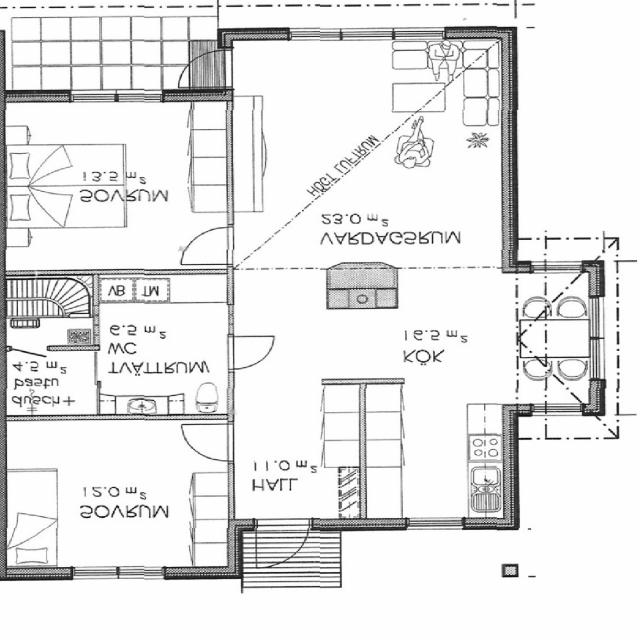door: (257, 519, 307, 570), (170, 49, 232, 86), (180, 424, 235, 462), (180, 227, 234, 265), (228, 336, 276, 370), (10, 346, 47, 381)
